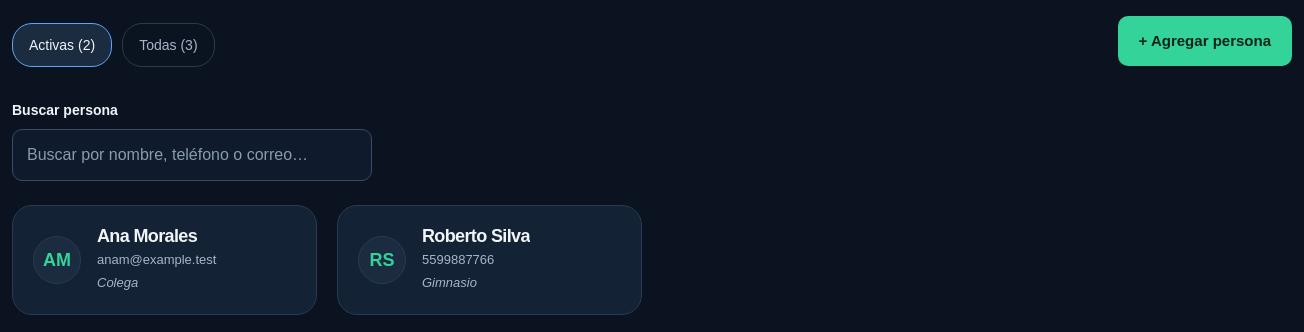
Test: PersonList › renders active persons by default and switches to all with tab
The width and height of the screenshot is (1304, 332).
Expected: the heading "Ana Morales" is shown, top-left (97, 226), bottom-right (197, 247)
Expected: the heading "Roberto Silva" is shown, top-left (422, 226), bottom-right (530, 247)
Click the button "Todas (3)".
click(168, 45)  # box top-left (122, 23), bottom-right (215, 67)
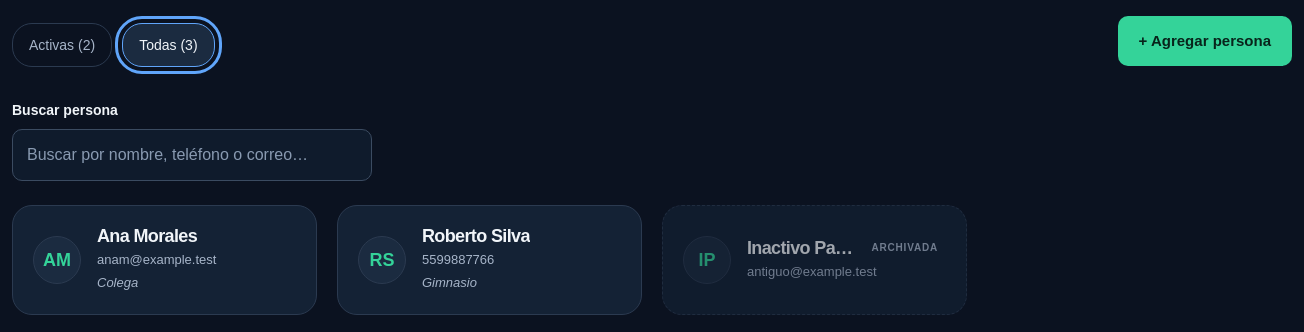
Expected: the heading "Inactivo Pasado" is shown, top-left (747, 238), bottom-right (856, 259)
